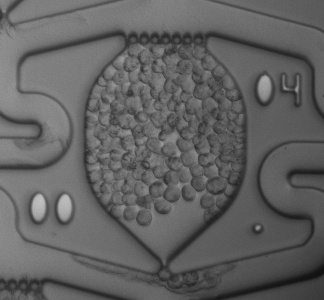AptNum: (249, 65, 309, 113)
Marker: (247, 218, 269, 239)
StNum: (20, 185, 84, 236)
Trap: (136, 257, 193, 300)
